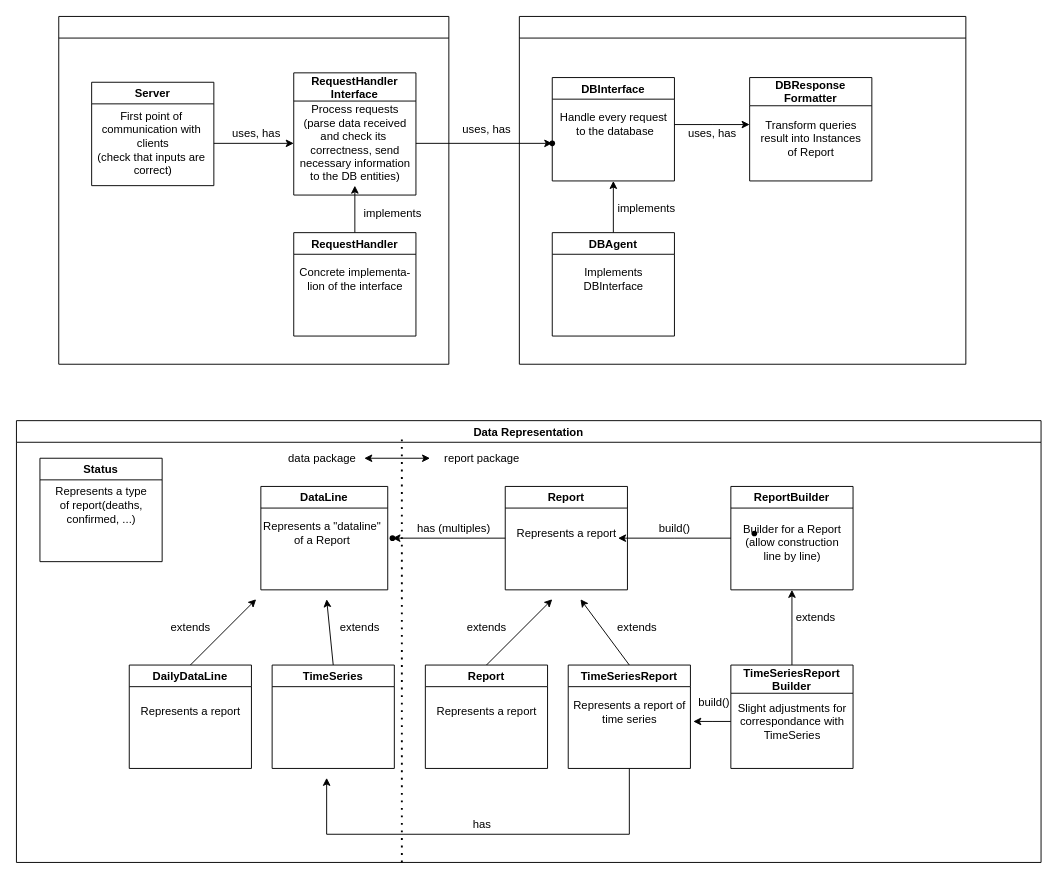
Some shapes in this 1058 by 881 pixel diagram are drawn without their labels. The shapes that lost their labels are listed below. From the top down, each one's centre as x and y in pixels, then its label:
point (253, 190): Server Interface
point (742, 190): Database Interface
